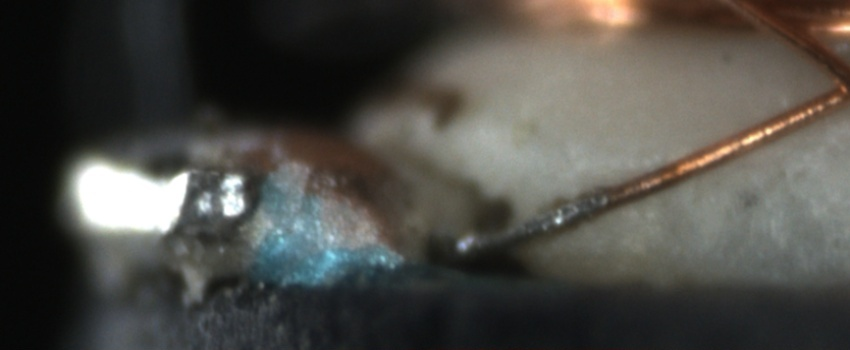CL: (805, 51, 850, 116)
TS: (440, 193, 608, 260)
